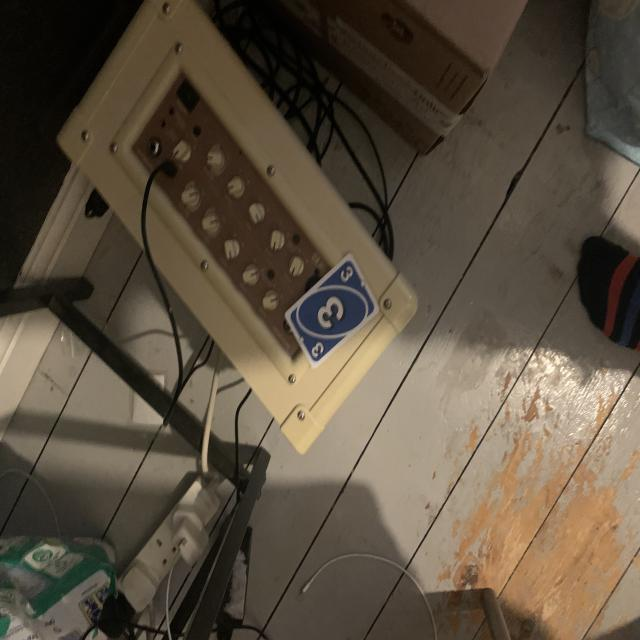lblue-3: (336, 265, 357, 283)
